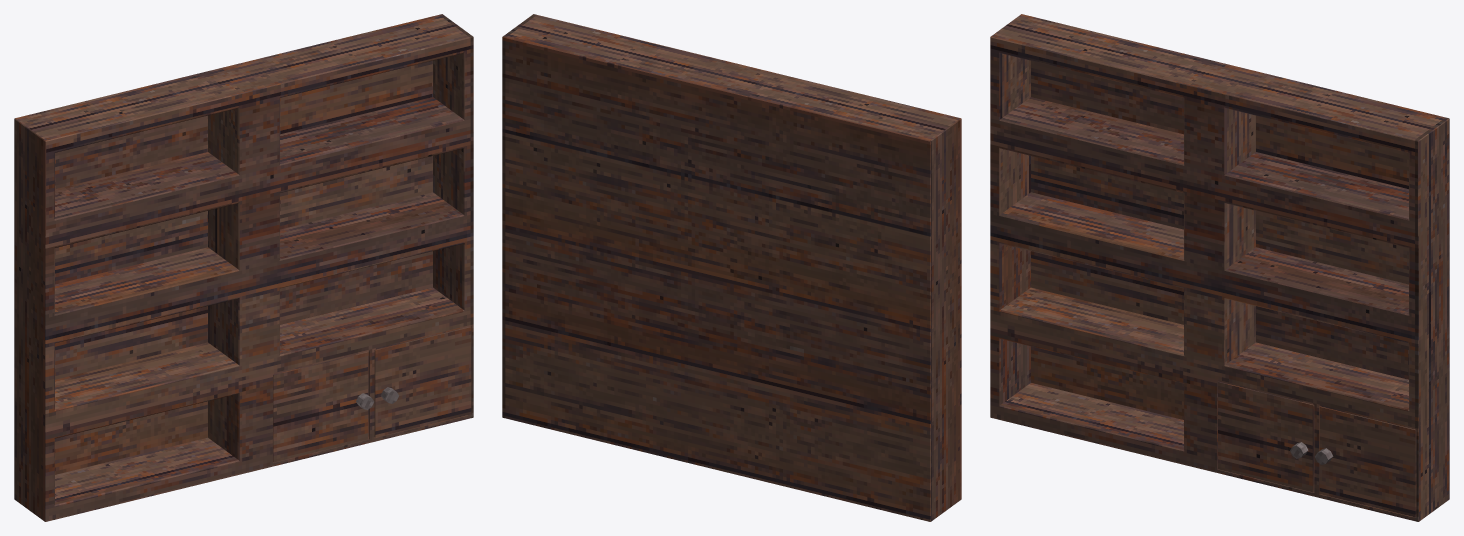
The model's file is cupboard_kitchen.fbx.
3 renders of one model, left to right at view 1: azimuth 30°, elevation 25°; view 2: azimuth 150°, elevation 25°; view 3: azimuth 330°, elevation 25°, orthographic.
Visible parts, largest first — view 1: DoorLeft1_MediumBookShelf1; view 2: DoorLeft1_MediumBookShelf1; view 3: DoorLeft1_MediumBookShelf1.
Boxes of the visible parts, x1,y1,x2,y2 form: DoorLeft1_MediumBookShelf1: [14, 14, 473, 521]; DoorLeft1_MediumBookShelf1: [502, 14, 961, 521]; DoorLeft1_MediumBookShelf1: [990, 14, 1449, 521].
Size of the model in its own units: 257 by 218 by 40.61.
